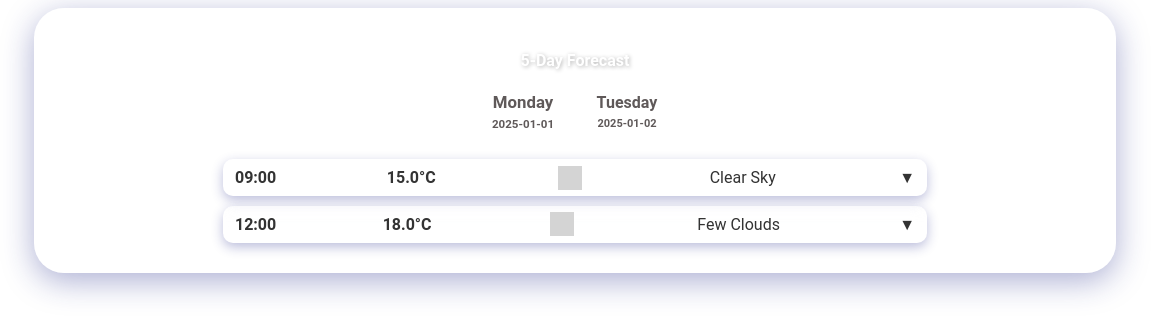
Test: ForecastDisplay Component › switches to another day when its tab is clicked
The width and height of the screenshot is (1151, 316).
Step 1. Click the text "Tuesday" → (627, 112), box top-left (575, 85), bottom-right (679, 139)
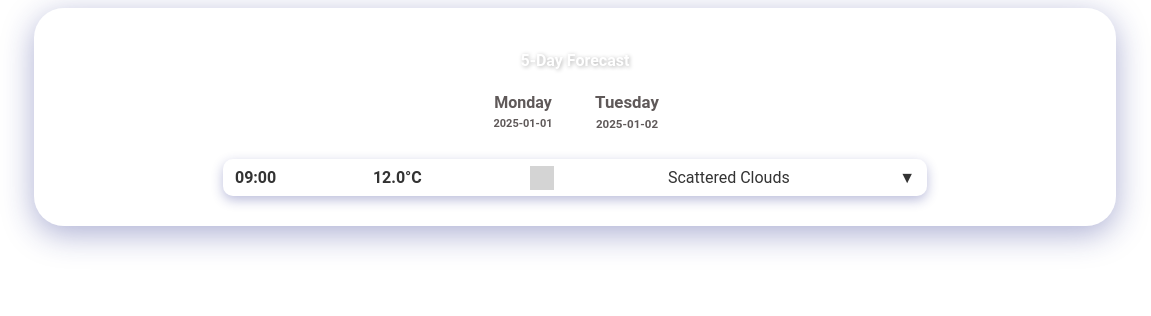
Expected: the text "09:00" is shown, top-left (235, 168), bottom-right (276, 187)
Result: the text "12:00" is gone
